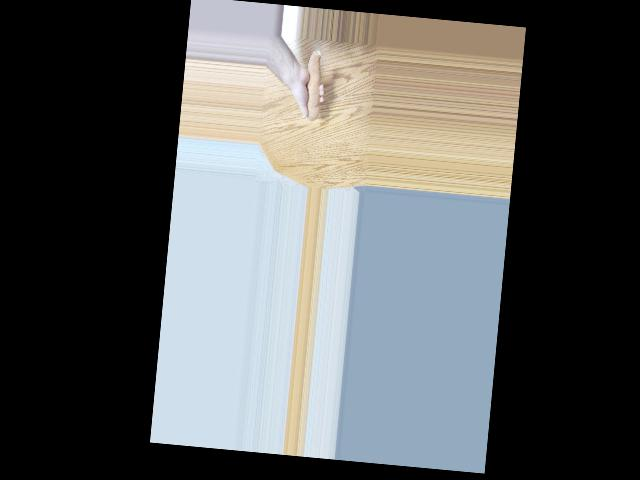sweet_potato: (297, 48, 328, 127)
